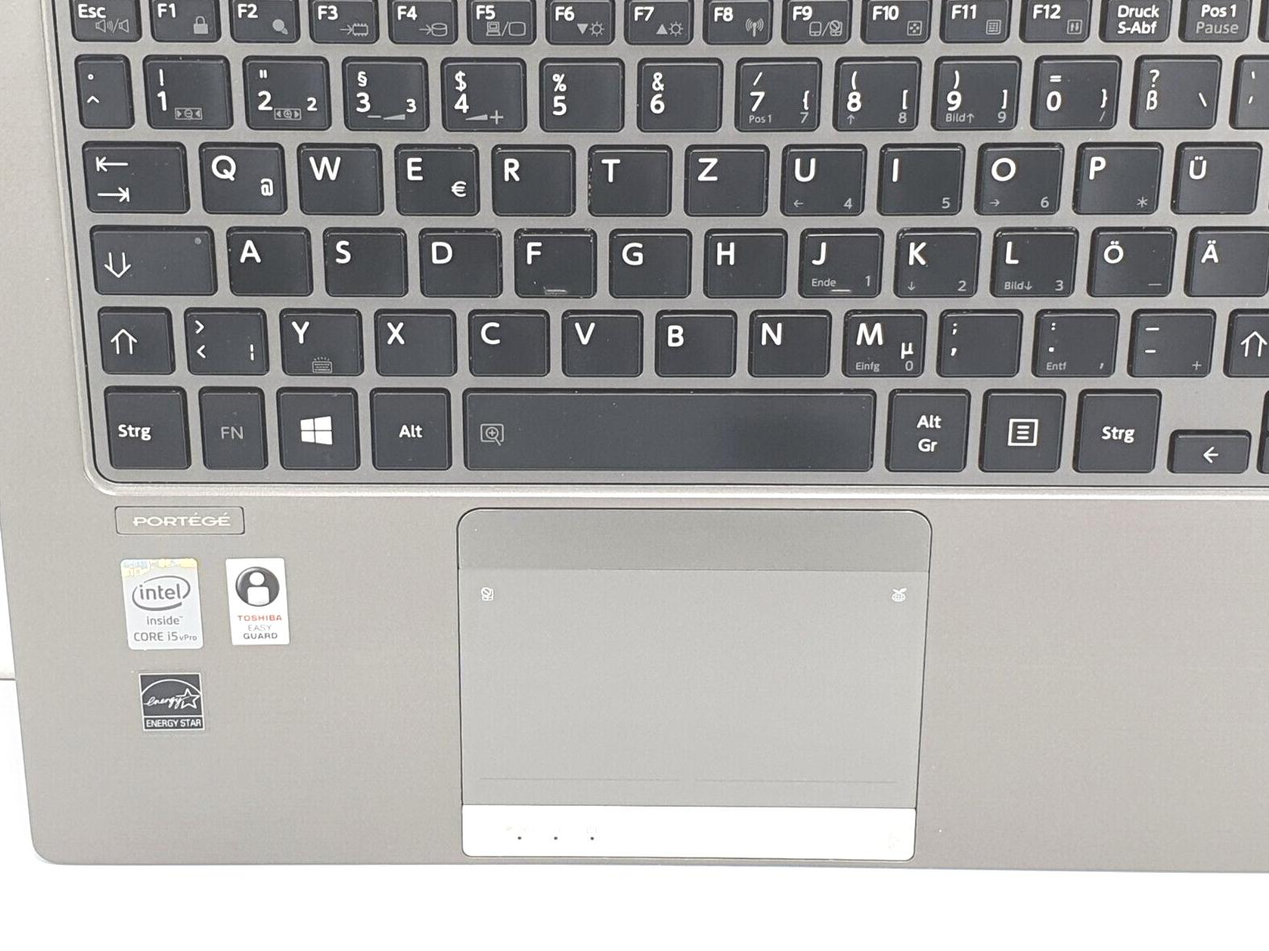0: (1030, 52, 1121, 128)
1: (139, 52, 229, 128)
2: (239, 52, 328, 128)
3: (337, 54, 426, 129)
4: (436, 55, 524, 131)
5: (535, 56, 622, 131)
6: (632, 56, 721, 130)
7: (732, 55, 821, 131)
8: (830, 56, 919, 131)
9: (929, 54, 1020, 129)
a: (223, 224, 309, 293)
accent: (1231, 50, 1269, 127)
ae: (1184, 224, 1269, 295)
alt-left: (368, 384, 451, 468)
altgr-right: (884, 385, 970, 470)
b: (649, 306, 734, 375)
c: (463, 306, 547, 375)
caret: (73, 51, 127, 127)
comma: (935, 307, 1019, 375)
d: (413, 225, 497, 296)
e: (390, 143, 479, 215)
f: (510, 227, 593, 295)
g: (604, 226, 688, 296)
h: (699, 226, 784, 296)
i: (874, 142, 963, 214)
j: (795, 226, 880, 297)
k: (891, 225, 977, 297)
keyboard: (47, 1, 1269, 492)
l: (988, 226, 1076, 297)
less: (181, 305, 266, 373)
m: (837, 305, 926, 376)
minus: (1129, 306, 1217, 375)
n: (743, 308, 828, 375)
o: (971, 139, 1061, 214)
oe: (1085, 224, 1174, 296)
p: (1070, 139, 1160, 212)
point: (1032, 307, 1118, 376)
q: (193, 139, 284, 213)
r: (487, 143, 574, 214)
s: (320, 226, 406, 296)
shift-left: (94, 305, 171, 373)
shift-lock: (86, 222, 213, 293)
shift-right: (1224, 306, 1269, 376)
space: (460, 385, 874, 469)
ss: (1128, 52, 1220, 128)
strg-left: (96, 384, 186, 470)
strg-right: (1071, 386, 1159, 471)
t: (583, 143, 668, 214)
tab: (79, 138, 185, 211)
u: (776, 142, 863, 215)
ue: (1168, 139, 1259, 213)
v: (556, 306, 640, 375)
w: (292, 139, 380, 214)
x: (370, 306, 454, 375)
y: (276, 305, 361, 375)
z: (680, 142, 767, 214)
